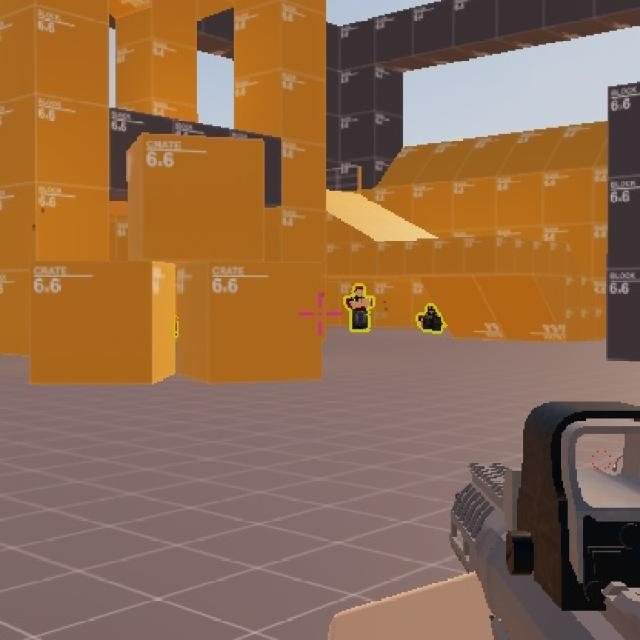player: (346, 284, 373, 335), (421, 303, 444, 337)
